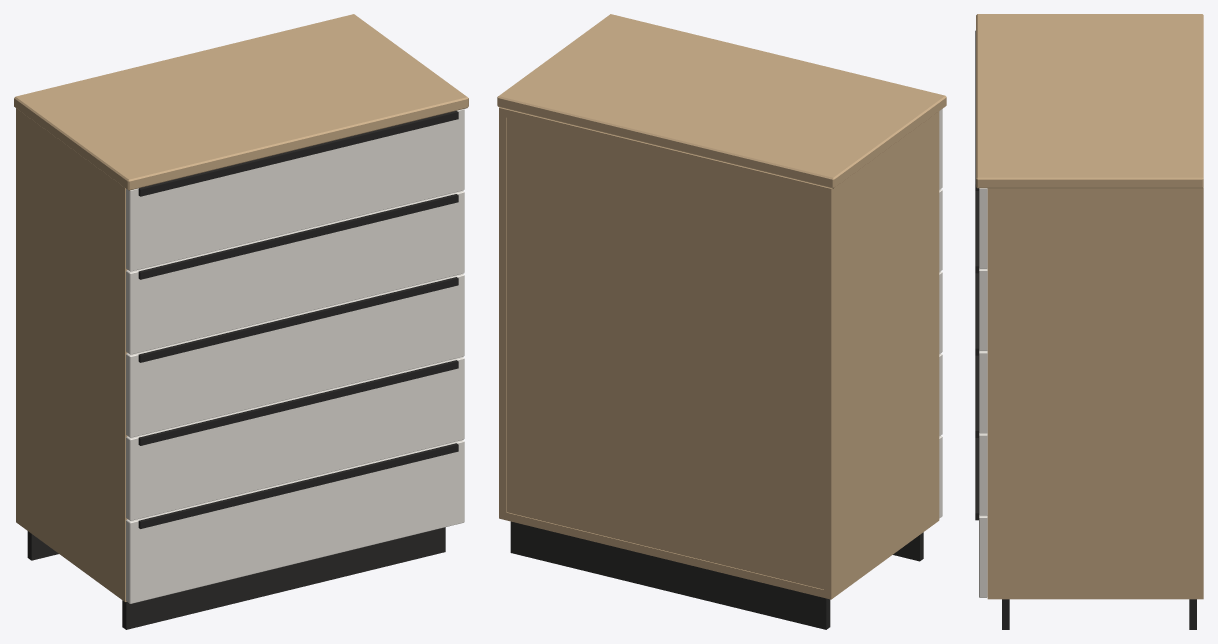
The model's file is 10_komoda_80_5sz.glb.
The picture shows the model from 3 angles, left to right: view 1: azimuth 30°, elevation 25°; view 2: azimuth 150°, elevation 25°; view 3: azimuth 270°, elevation 25°; orthographic projection.
Visible parts, largest first — view 1: Korpus, Wierzch, Front_szuflada_2, Front_szuflada_5, Front_szuflada_4, Front_szuflada_3, Front_szuflada_1, Uchwyty, Cokol; view 2: Korpus, Wierzch, Cokol; view 3: Korpus, Wierzch, Uchwyty, Front_szuflada_4, Front_szuflada_5, Front_szuflada_3, Front_szuflada_2, Front_szuflada_1, Cokol.
Part boxes in pixels (box(x1,y1,x2,y2)): Korpus: box(16, 108, 127, 601); Wierzch: box(14, 14, 468, 190); Front_szuflada_2: box(126, 190, 464, 354); Front_szuflada_5: box(126, 440, 464, 603); Front_szuflada_4: box(126, 357, 464, 520); Front_szuflada_3: box(126, 274, 464, 437); Front_szuflada_1: box(126, 109, 464, 271); Uchwyty: box(138, 111, 458, 528); Cokol: box(27, 527, 445, 629); Korpus: box(499, 107, 939, 599); Wierzch: box(497, 14, 946, 188); Cokol: box(510, 521, 923, 629); Korpus: box(987, 187, 1203, 599); Wierzch: box(976, 14, 1203, 188); Uchwyty: box(975, 30, 978, 520); Front_szuflada_4: box(979, 433, 987, 515); Front_szuflada_5: box(979, 515, 987, 597); Front_szuflada_3: box(979, 351, 987, 433); Front_szuflada_2: box(979, 268, 987, 350); Front_szuflada_1: box(979, 188, 987, 268); Cokol: box(1002, 599, 1196, 629).
Size of the model in its own units: 0.812 by 1.05 by 0.476.
